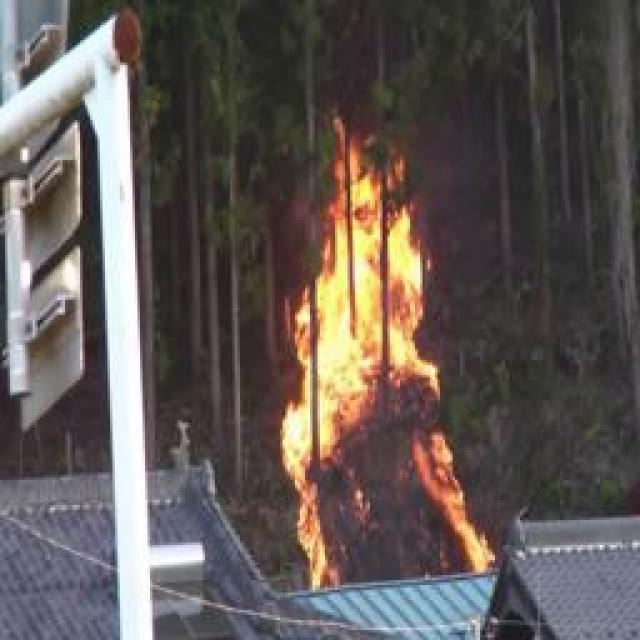Fire: (282, 146, 480, 585)
